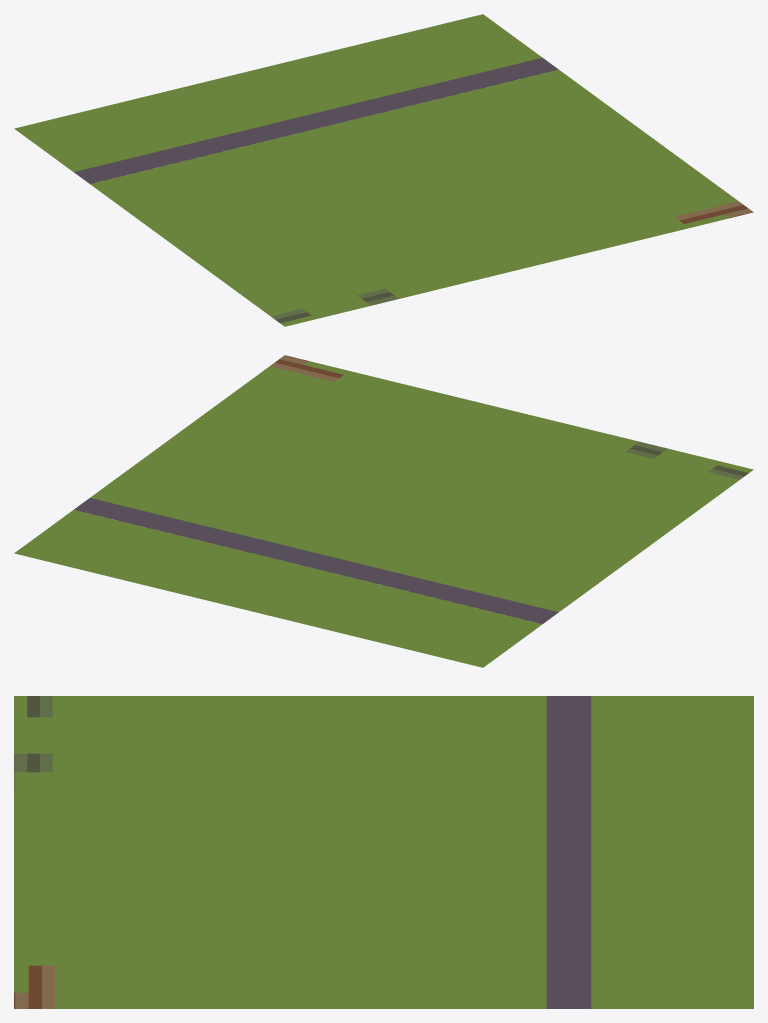
The model's file is cure-16-2.glb.
3 views of the same model, one above another, from view 1: azimuth 30°, elevation 25°; view 2: azimuth 150°, elevation 25°; view 3: azimuth 270°, elevation 25° (orthographic). The views are drawn at different scales.
Visible parts, largest first — view 1: cure-16-2; view 2: cure-16-2; view 3: cure-16-2.
Part boxes in pixels (x1,y1,x2,y2): cure-16-2: (14, 14, 753, 326); cure-16-2: (14, 355, 753, 667); cure-16-2: (14, 696, 753, 1008).
Bounding box in the file's own units: 100 × 0.008 × 100.
